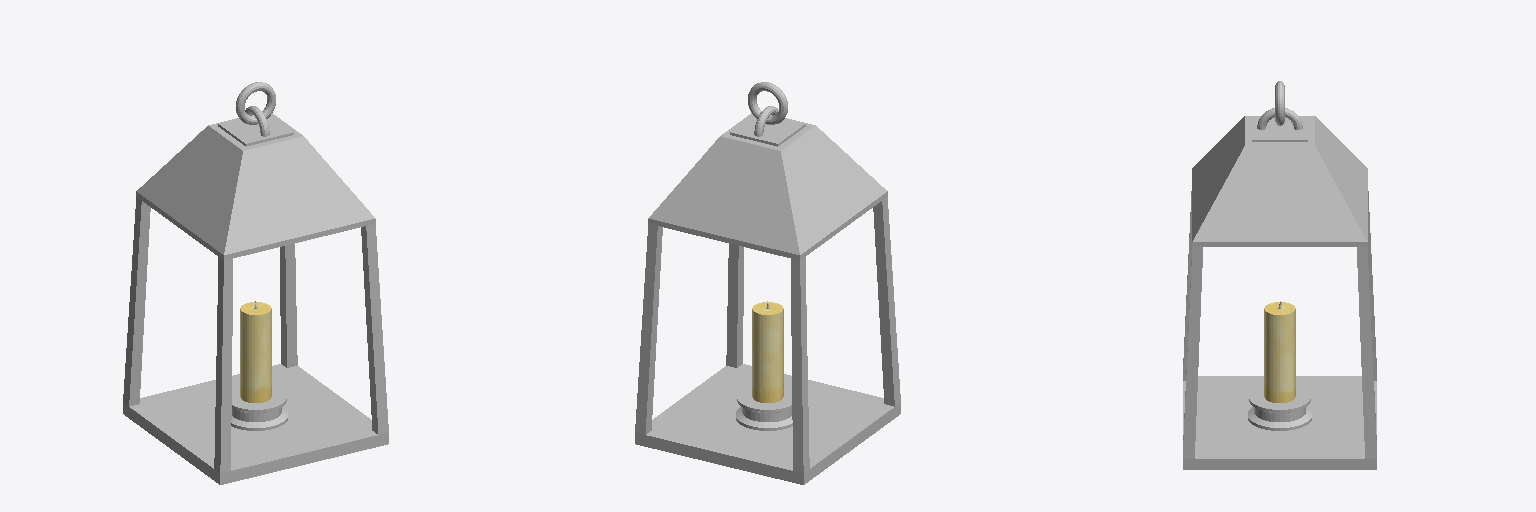
3 renders of one model, left to right at view 1: azimuth 30°, elevation 25°; view 2: azimuth 150°, elevation 25°; view 3: azimuth 270°, elevation 25°, orthographic.
Visible parts, largest first — view 1: Plane, Circle, Torus; view 2: Plane, Circle, Torus; view 3: Plane, Circle, Torus.
Part boxes in pixels (x1,y1,x2,y2): Plane: (123, 113, 388, 484); Circle: (231, 301, 287, 430); Torus: (236, 82, 275, 136); Plane: (635, 113, 900, 484); Circle: (736, 301, 792, 430); Torus: (748, 82, 787, 136); Plane: (1183, 116, 1376, 469); Circle: (1248, 301, 1311, 430); Torus: (1257, 81, 1302, 129).
Bounding box in the file's own units: 6 × 11.77 × 6.
Materials: 4 (1 with a texture image).